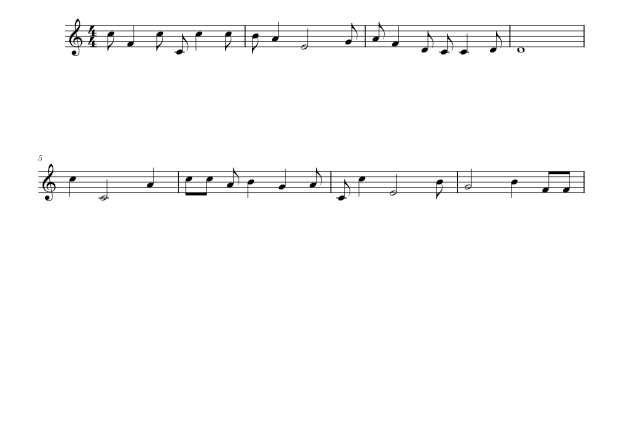Treble Clef: (64, 13, 86, 61), (38, 161, 59, 205)
